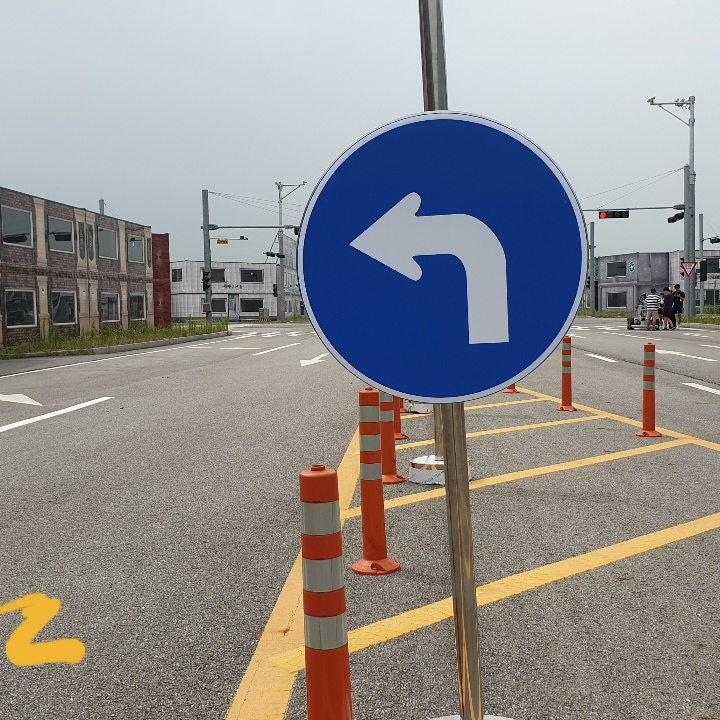left: (338, 184, 525, 355)
